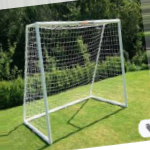goals: (20, 16, 130, 144)
